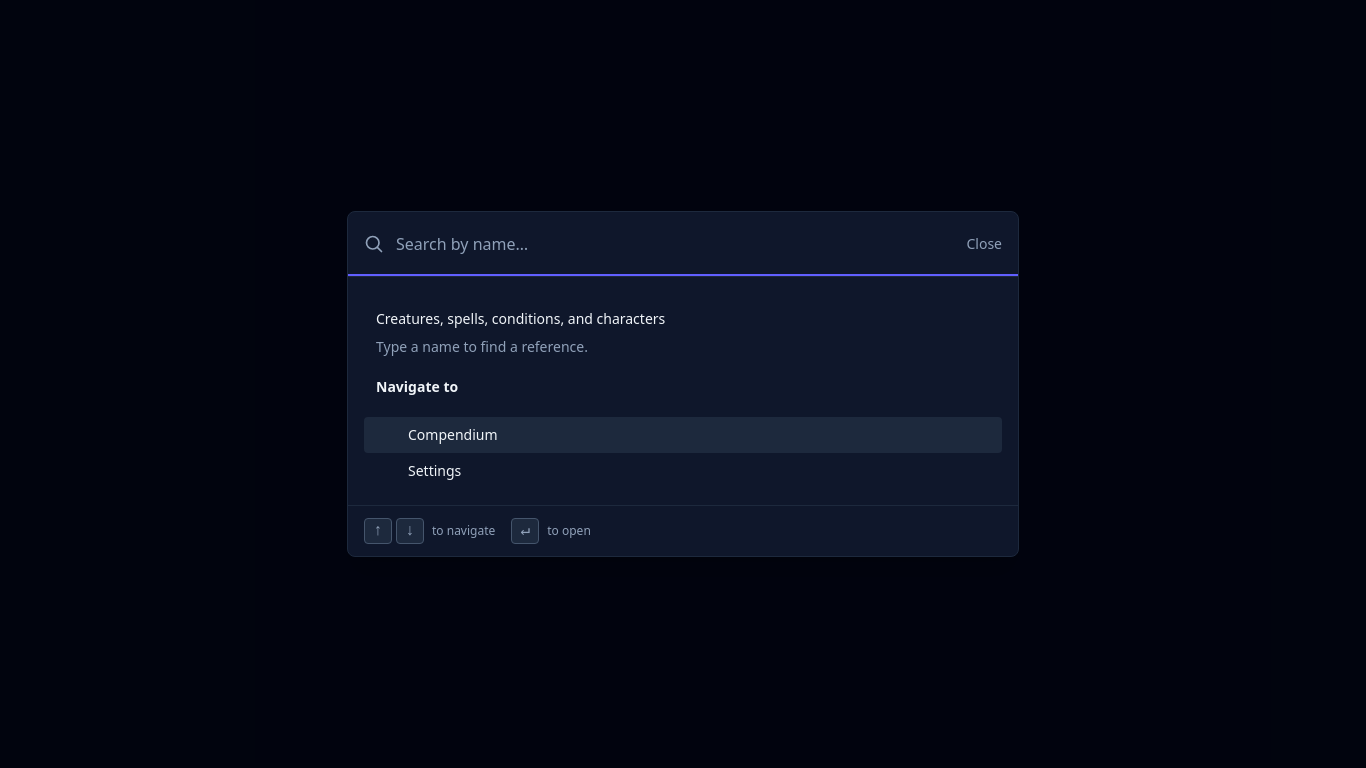
it: lists empty-search destinations alphabetically and opens them with the keyboard
The width and height of the screenshot is (1366, 768).
Expected: the heading "Navigate to" is shown, [376,377,458,396]
Expected: the options read "Compendium", "Settings", in this order, [364,417,1002,453]; [364,453,1002,489]
Press ArrowDown in the dropdown, box [396,228,954,260]
Press Enter in the dropdown, box [396,228,954,260]
Type "gob" into the dropdown at coordinates (675, 244), box [396,228,954,260]
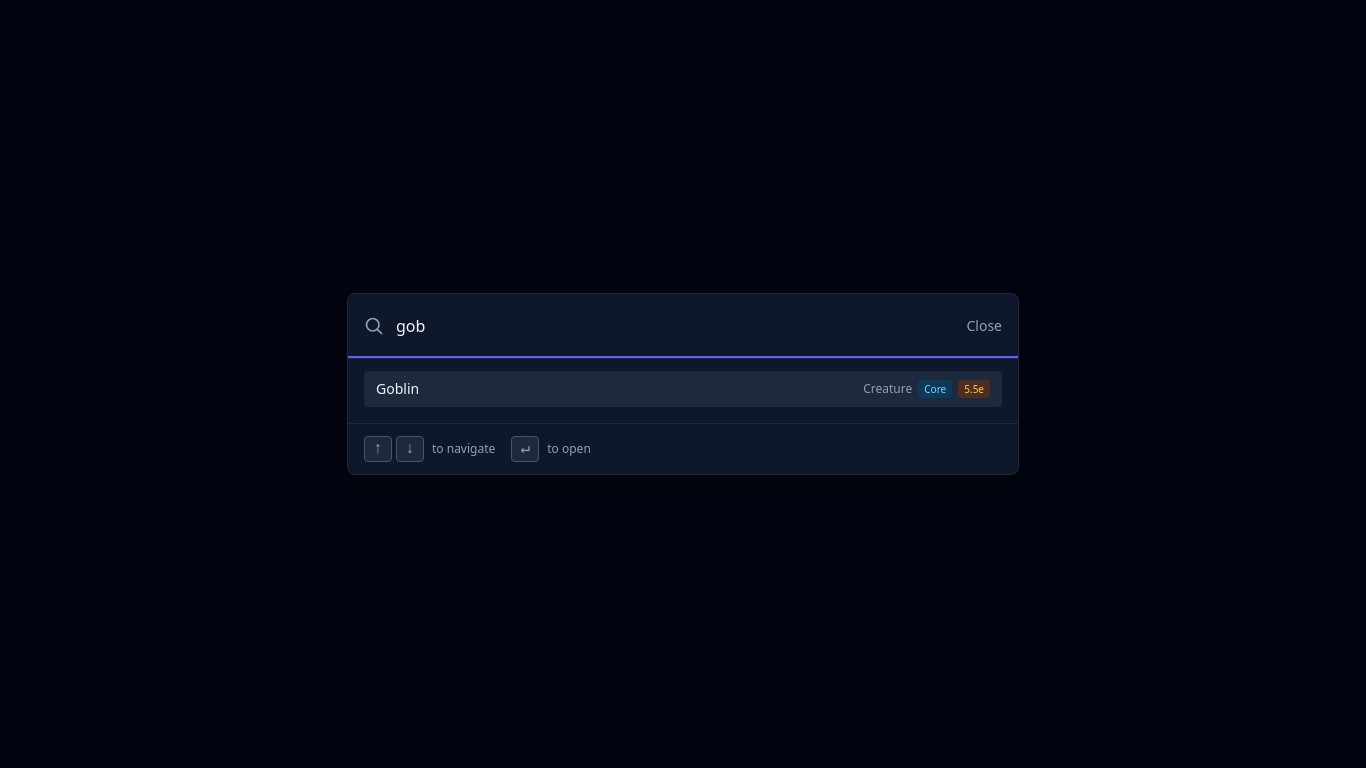
Now the heading "Navigate to" is gone
